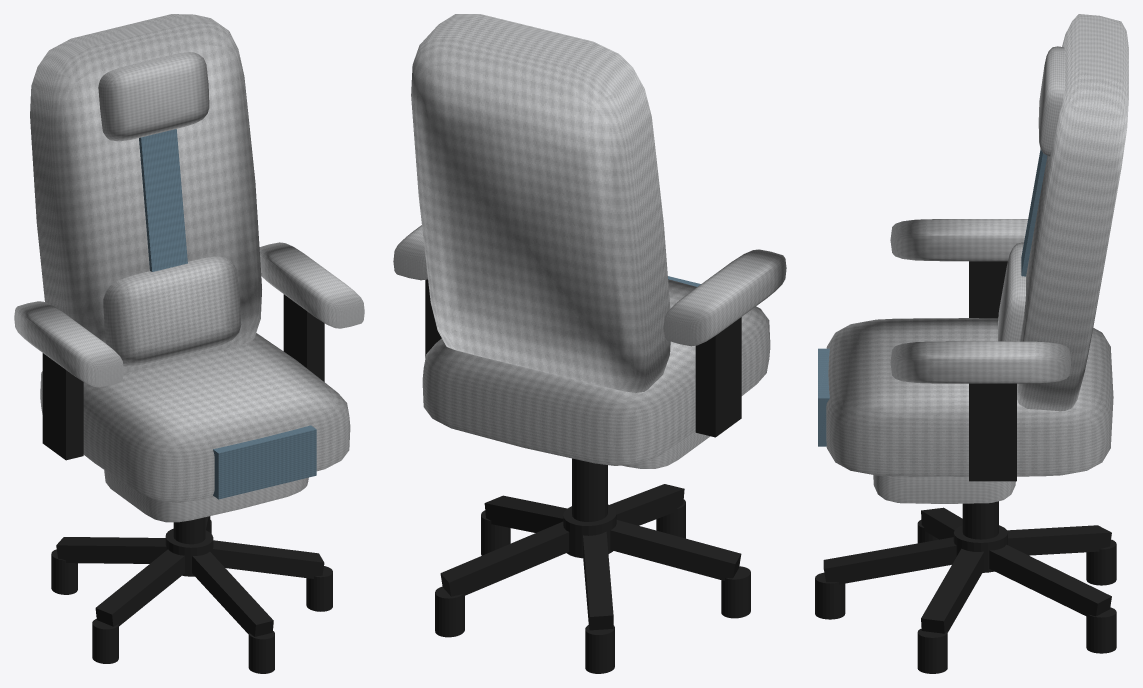
The picture shows the model from 3 angles, left to right: view 1: azimuth 30°, elevation 25°; view 2: azimuth 150°, elevation 25°; view 3: azimuth 270°, elevation 25°; orthographic projection. The views are drawn at different scales.
Visible parts, largest first — view 1: 3 backrest, 1 seat, 6 lumbar_pillow, 5 headrest, 2 seat_accent, 4 backrest_accent, 8 armrest_left_pad, 9 armrest_right_pad, 10 armrest_left_support, 7 footrest, 18 spoke_5, 15 spoke_2 (+9 smaller); view 2: 3 backrest, 1 seat, 8 armrest_left_pad, 10 armrest_left_support, 16 spoke_3, 18 spoke_5, 17 spoke_4, 15 spoke_2, 12 gas_lift, 14 spoke_1, 9 armrest_right_pad, 13 base_hub (+7 smaller); view 3: 1 seat, 3 backrest, 9 armrest_right_pad, 8 armrest_left_pad, 11 armrest_right_support, 16 spoke_3, 14 spoke_1, 7 footrest, 15 spoke_2, 17 spoke_4, 5 headrest, 6 lumbar_pillow (+10 smaller).
Part boxes in pixels (left/top/right/bottom): 3 backrest: left=30, top=14, right=261, bottom=373; 1 seat: left=40, top=333, right=350, bottom=502; 6 lumbar_pillow: left=103, top=256, right=241, bottom=367; 5 headrest: left=98, top=52, right=209, bottom=141; 2 seat_accent: left=213, top=425, right=316, bottom=499; 4 backrest_accent: left=139, top=129, right=187, bottom=271; 8 armrest_left_pad: left=14, top=301, right=123, bottom=387; 9 armrest_right_pad: left=259, top=242, right=364, bottom=328; 10 armrest_left_support: left=42, top=353, right=83, bottom=460; 7 footrest: left=104, top=470, right=308, bottom=522; 18 spoke_5: left=95, top=549, right=184, bottom=626; 15 spoke_2: left=212, top=540, right=324, bottom=578; 3 backrest: left=411, top=14, right=670, bottom=392; 1 seat: left=422, top=279, right=770, bottom=465; 8 armrest_left_pad: left=663, top=249, right=786, bottom=346; 10 armrest_left_support: left=695, top=317, right=741, bottom=437; 16 spoke_3: left=440, top=521, right=569, bottom=596; 18 spoke_5: left=610, top=520, right=741, bottom=580; 17 spoke_4: left=583, top=531, right=613, bottom=630; 15 spoke_2: left=484, top=495, right=567, bottom=532; 12 gas_lift: left=572, top=458, right=607, bottom=521; 14 spoke_1: left=610, top=484, right=684, bottom=525; 9 armrest_right_pad: left=393, top=225, right=427, bottom=280; 13 base_hub: left=563, top=504, right=616, bottom=558; 1 seat: left=826, top=318, right=1113, bottom=476; 3 backrest: left=1017, top=14, right=1128, bottom=411; 9 armrest_right_pad: left=890, top=341, right=1071, bottom=383; 8 armrest_left_pad: left=890, top=219, right=1027, bottom=261; 11 armrest_right_support: left=969, top=383, right=1016, bottom=481; 16 spoke_3: left=989, top=544, right=1111, bottom=616; 14 spoke_1: left=823, top=537, right=956, bottom=584; 7 footrest: left=873, top=475, right=1015, bottom=503; 15 spoke_2: left=921, top=548, right=984, bottom=633; 17 spoke_4: left=1007, top=525, right=1111, bottom=555; 5 headrest: left=1038, top=46, right=1064, bottom=156; 6 lumbar_pillow: left=998, top=242, right=1025, bottom=341.
Bounding box in the file's own units: 0.53 × 1 × 0.5.
Materials: 4 (2 with a texture image).
